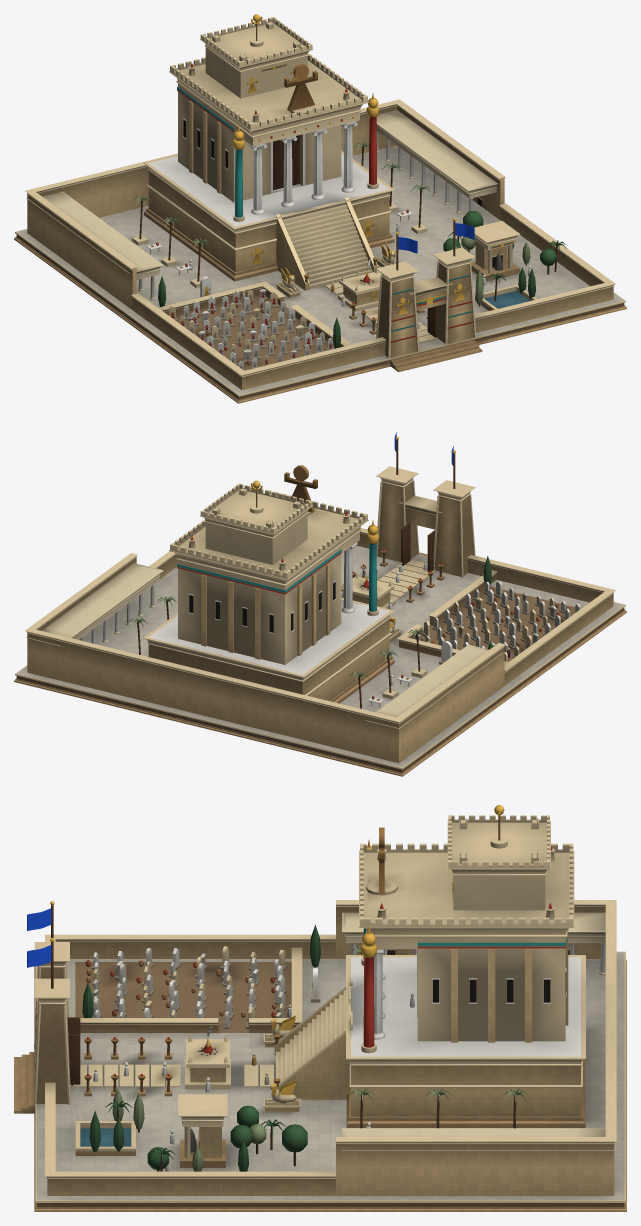
The model's file is lm_tanit.glb.
3 renders of one model, top to bottom at view 1: azimuth 30°, elevation 25°; view 2: azimuth 150°, elevation 25°; view 3: azimuth 270°, elevation 25°, orthographic. The views are drawn at different scales.
Parts seen in each view (by area): view 1: lm_tanit; view 2: lm_tanit; view 3: lm_tanit.
Boxes of the visible parts, x1,y1,x2,y2 form: lm_tanit: [14, 14, 626, 403]; lm_tanit: [14, 432, 626, 776]; lm_tanit: [14, 805, 626, 1211].
Size of the model in its own units: 2.32 by 1.22 by 2.4.
Materials: 1 (1 with a texture image).
